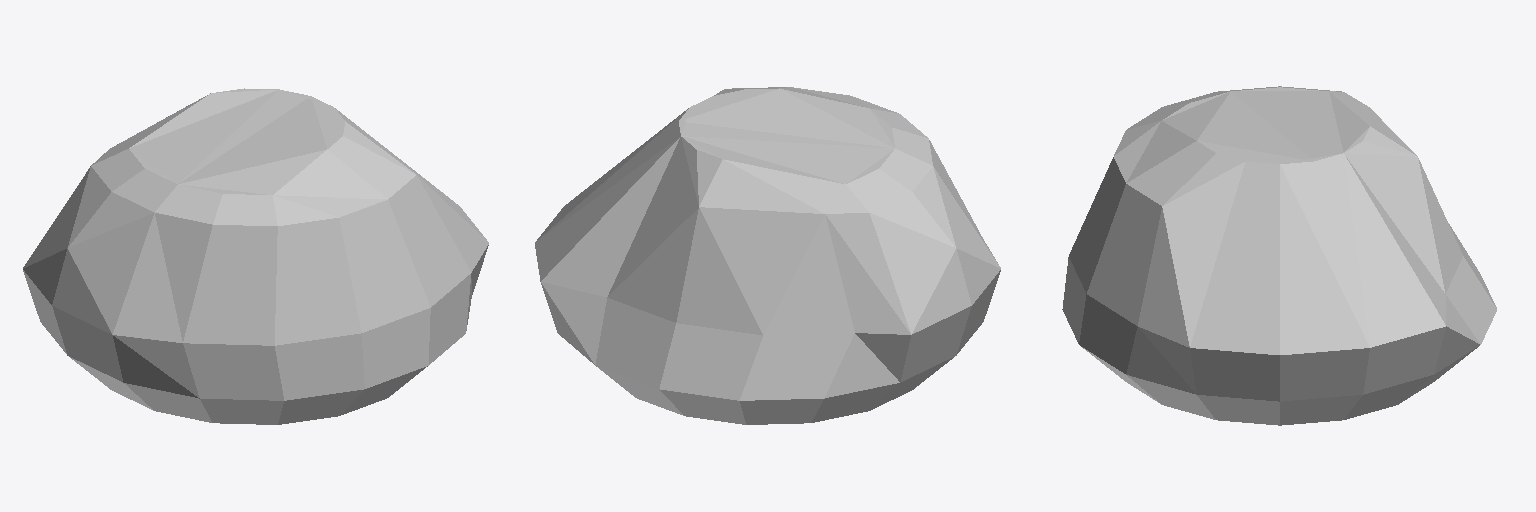
The model's file is lettuce-eat4.obj.
3 renders of one model, left to right at view 1: azimuth 30°, elevation 25°; view 2: azimuth 150°, elevation 25°; view 3: azimuth 270°, elevation 25°, orthographic.
Parts seen in each view (by area): view 1: sphere1; view 2: sphere1; view 3: sphere1.
Part boxes in pixels (left/top/right/bottom): sphere1: left=23, top=88, right=488, bottom=424; sphere1: left=535, top=87, right=1000, bottom=424; sphere1: left=1062, top=86, right=1496, bottom=425.
Bounding box in the file's own units: 2 × 1.22 × 1.85.